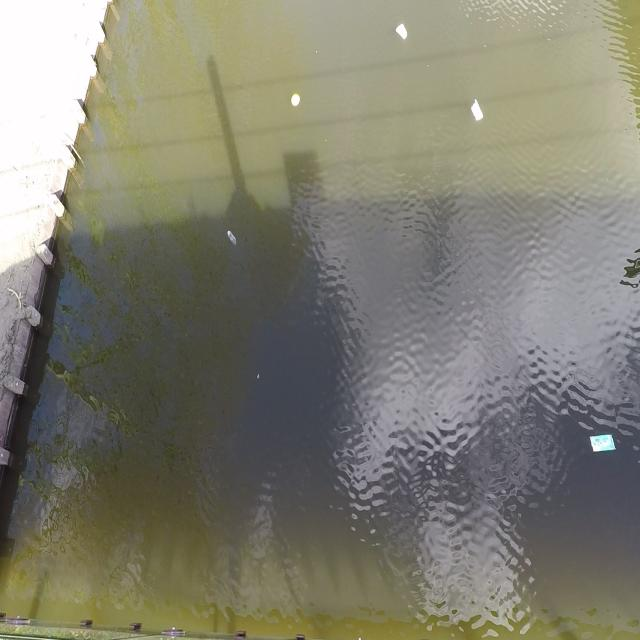Bouteille plastique: (224, 226, 240, 249)
Non plastique: (391, 17, 412, 44)
